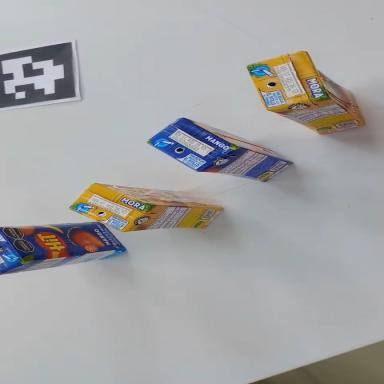HIT-MANGO: (145, 109, 293, 201), (0, 210, 127, 275)
HIT-MORA: (236, 30, 374, 165), (68, 181, 224, 242)
cara_F: (1, 211, 124, 265), (294, 51, 375, 127), (180, 118, 293, 166), (94, 183, 222, 211)
